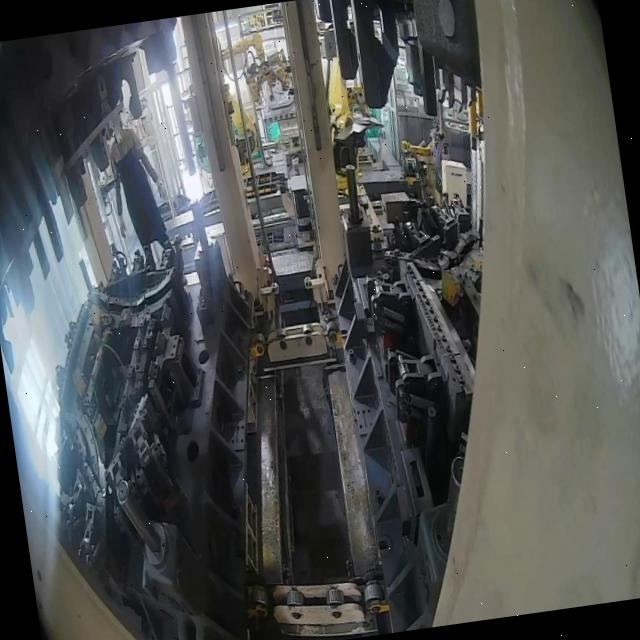Person: (104, 120, 178, 274)
